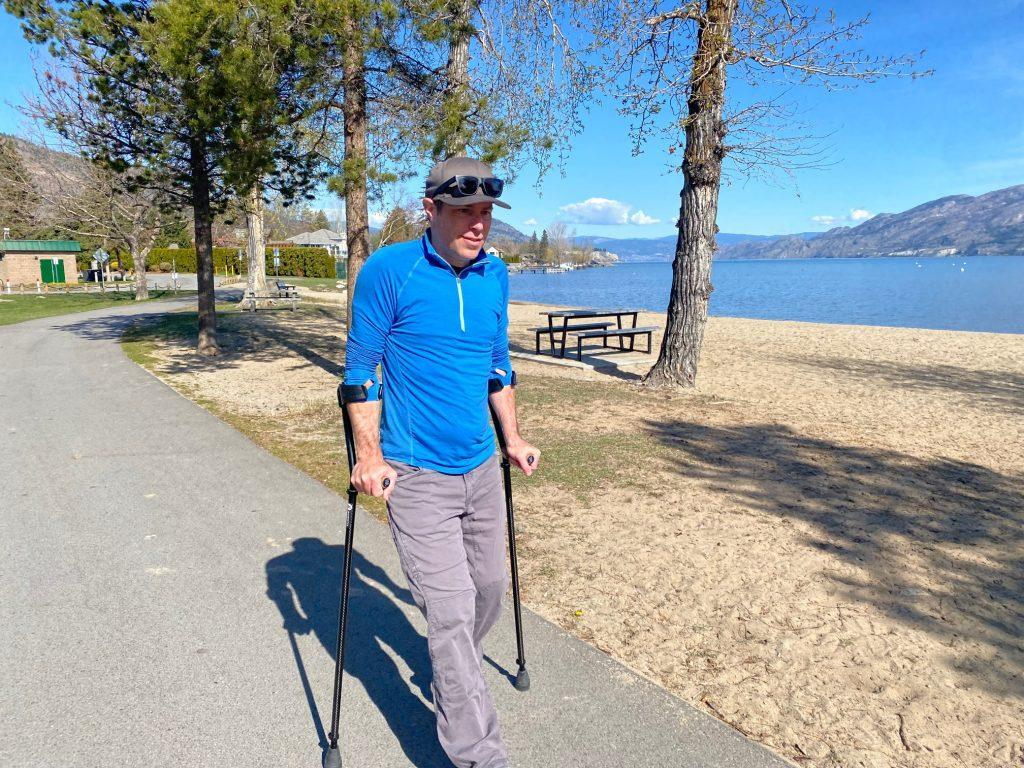crutches: (309, 146, 550, 768)
